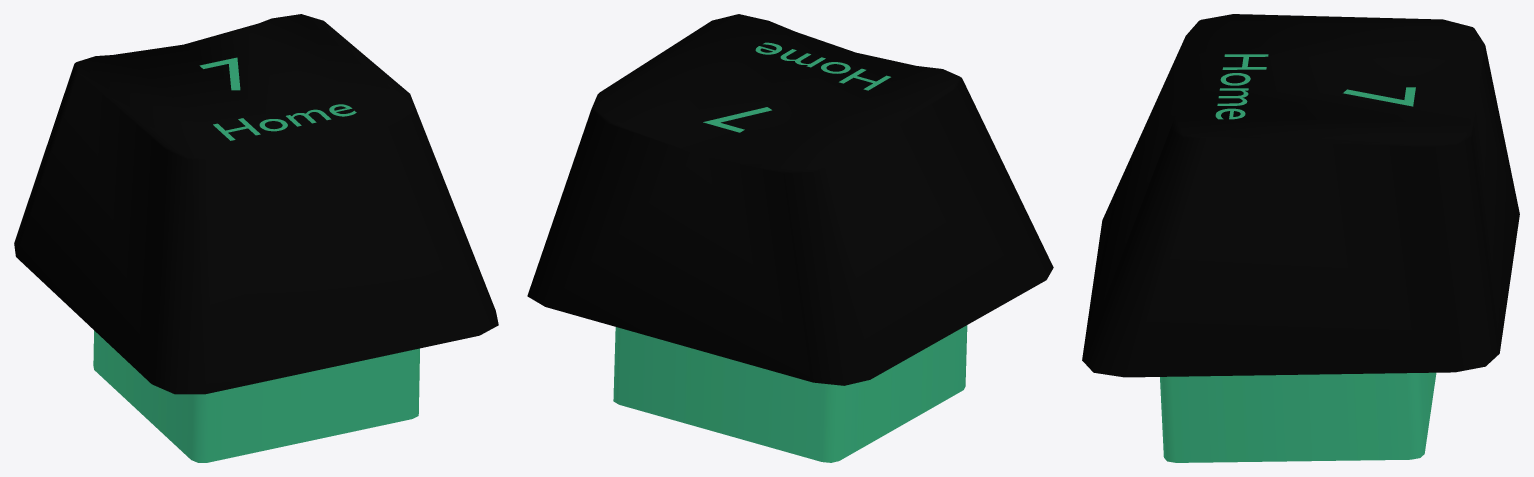
Rendered from key_7home-CDpOSWAM.glb.
The picture shows the model from 3 angles, left to right: view 1: azimuth 30°, elevation 25°; view 2: azimuth 150°, elevation 25°; view 3: azimuth 270°, elevation 25°; orthographic projection. The views are drawn at different scales.
Visible parts, largest first — view 1: StudyShelf_1068; view 2: StudyShelf_1068; view 3: StudyShelf_1068.
Boxes of the visible parts, x1,y1,x2,y2 form: StudyShelf_1068: [14, 14, 498, 462]; StudyShelf_1068: [527, 14, 1053, 462]; StudyShelf_1068: [1082, 14, 1519, 462].
Bounding box in the file's own units: 4.35 × 3.62 × 4.35.
Materials: 2 (1 with a texture image).
